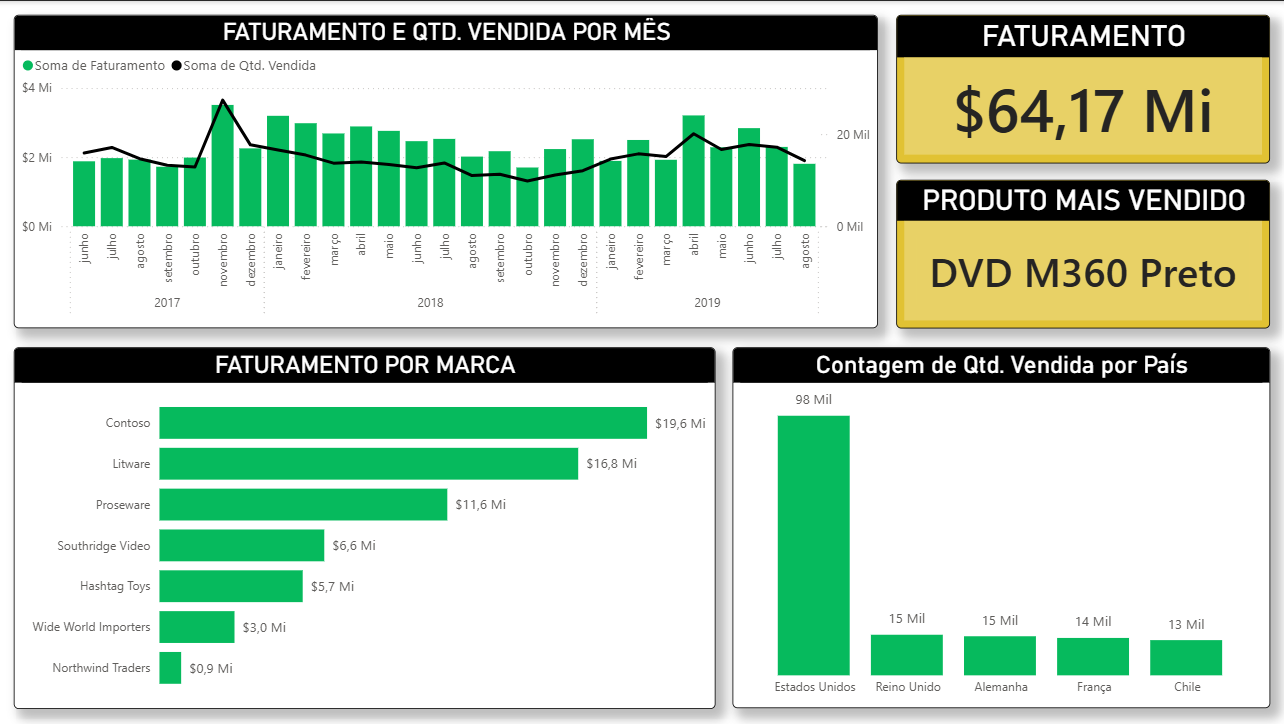

What the dashboard file says about the page in this screenshot:
{"tool":"powerbi","page":{"name":"Relatório de Vendas","canvas":[1280,720],"ordinal":0},"visuals":[{"type":"cardVisual","title":"FATURAMENTO","fields":{"Data":["Sum(BaseVendas.Faturamento)"]},"box":[892,14,372,148],"z":0},{"type":"cardVisual","title":"PRODUTO MAIS VENDIDO ","fields":{"Data":["Min(BaseVendas.Produto)"]},"box":[892,178,372,148],"z":1000},{"type":"barChart","title":"FATURAMENTO POR MARCA","fields":{"Y":["Sum(BaseVendas.Faturamento)"],"Category":["BaseVendas.Marca"]},"box":[14,344,698,360],"z":2000},{"type":"lineStackedColumnComboChart","title":"FATURAMENTO E QTD. VENDIDA POR MÊS","fields":{"Y":["Sum(BaseVendas.Faturamento)"],"Category":["BaseVendas.Data da Venda.Variation.Hierarquia de datas.Ano","BaseVendas.Data da Venda.Variation.Hierarquia de datas.Mês"],"Y2":["Sum(BaseVendas.Qtd. Vendida)"]},"box":[14,14,860,312],"z":3000},{"type":"lineStackedColumnComboChart","fields":{"Category":["BaseVendas.País"],"Y":["CountNonNull(BaseVendas.Qtd. Vendida)"]},"box":[729,344.6,534.9,359.5],"z":3001}]}

Visuals, with their boxes in screenshot pixels (x1, y1, x2, y2), scaled from the page's 1280x720 canvas onto the 1284x724 screenshot:
"FATURAMENTO" cardVisual: bbox=(895, 14, 1268, 163)
"PRODUTO MAIS VENDIDO " cardVisual: bbox=(895, 179, 1268, 328)
"FATURAMENTO POR MARCA" barChart: bbox=(14, 346, 714, 708)
"FATURAMENTO E QTD. VENDIDA POR MÊS" lineStackedColumnComboChart: bbox=(14, 14, 877, 328)
lineStackedColumnComboChart - BaseVendas.País x CountNonNull(BaseVendas.Qtd. Vendida): bbox=(731, 347, 1268, 708)
